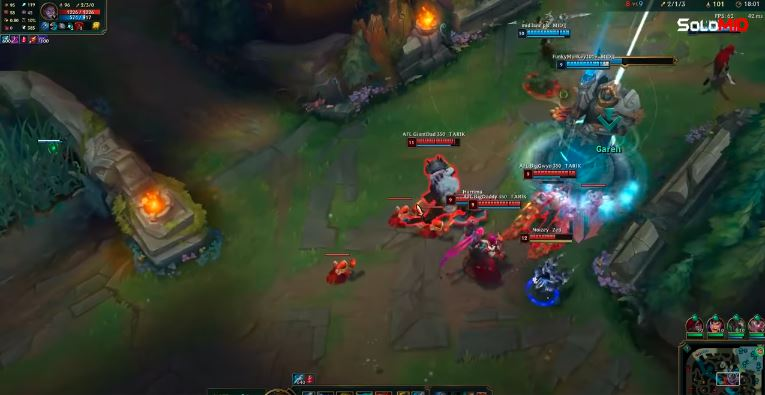bar: (687, 20, 745, 36), (444, 192, 509, 206), (554, 56, 612, 71), (404, 135, 465, 149), (516, 231, 577, 244), (522, 168, 580, 181), (467, 198, 525, 211), (515, 27, 573, 39)
